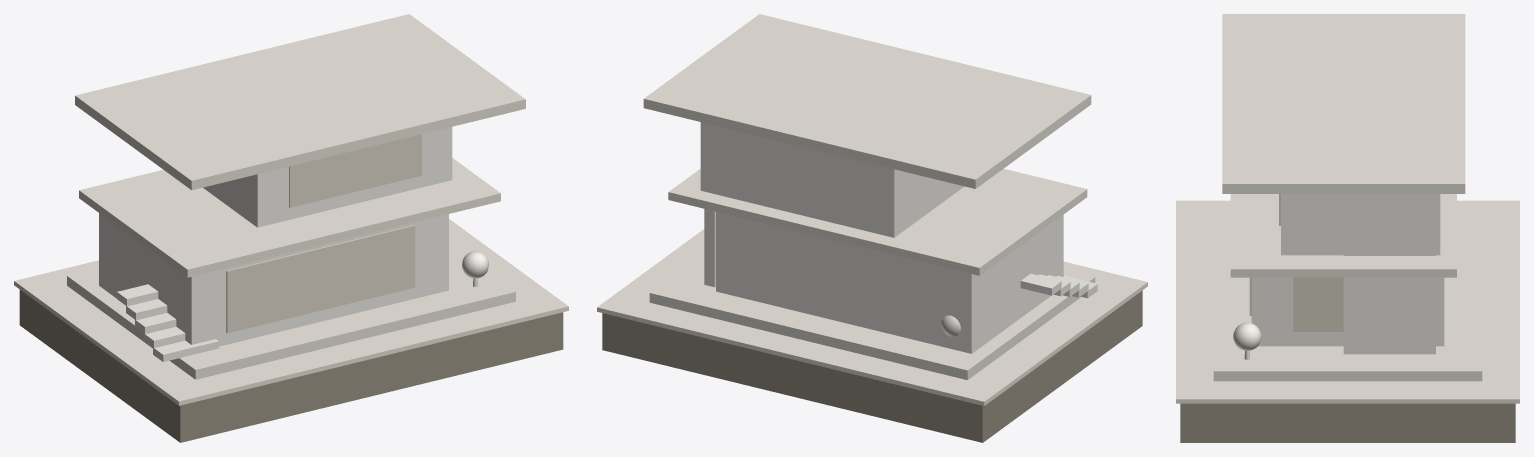
Rendered from architecture.glb.
3 renders of one model, left to right at view 1: azimuth 30°, elevation 25°; view 2: azimuth 150°, elevation 25°; view 3: azimuth 270°, elevation 25°, orthographic. The views are drawn at different scales.
Parts seen in each view (by area): view 1: laje_cobertura, plinto, laje_intermediaria, plinto_topo, terreo, vazio_terreo, terreno, volume_superior, vazio_superior, degrau_0, degrau_4, degrau_1 (+3 smaller); view 2: laje_cobertura, terreo, plinto, plinto_topo, volume_superior, laje_intermediaria, terreno, lamina_parede, degrau_4; view 3: laje_cobertura, plinto_topo, terreno, plinto, volume_superior, laje_intermediaria, lamina_parede, terreo, vazio_lateral, TR_maquete.
Part boxes in pixels (x1=…): laje_cobertura: x1=75, y1=14, x2=525, y2=190; plinto: x1=19, y1=290, x2=563, y2=442; laje_intermediaria: x1=79, y1=158, x2=500, y2=277; plinto_topo: x1=14, y1=219, x2=568, y2=405; terreo: x1=99, y1=213, x2=448, y2=346; vazio_terreo: x1=226, y1=225, x2=415, y2=333; terreno: x1=67, y1=243, x2=515, y2=379; volume_superior: x1=203, y1=127, x2=452, y2=227; vazio_superior: x1=289, y1=134, x2=421, y2=207; degrau_0: x1=153, y1=339, x2=218, y2=361; degrau_4: x1=117, y1=284, x2=158, y2=306; degrau_1: x1=144, y1=326, x2=185, y2=347; laje_cobertura: x1=643, y1=14, x2=1091, y2=188; terreo: x1=716, y1=211, x2=1063, y2=353; plinto: x1=602, y1=290, x2=1142, y2=442; plinto_topo: x1=597, y1=229, x2=1147, y2=405; volume_superior: x1=700, y1=122, x2=964, y2=237; laje_intermediaria: x1=668, y1=168, x2=1087, y2=275; terreno: x1=649, y1=253, x2=1095, y2=380; lamina_parede: x1=704, y1=209, x2=715, y2=287; degrau_4: x1=1020, y1=273, x2=1061, y2=295; laje_cobertura: x1=1222, y1=14, x2=1465, y2=193; plinto_topo: x1=1176, y1=200, x2=1519, y2=403; terreno: x1=1213, y1=208, x2=1482, y2=381; plinto: x1=1180, y1=403, x2=1515, y2=442; volume_superior: x1=1281, y1=194, x2=1440, y2=255; laje_intermediaria: x1=1230, y1=194, x2=1456, y2=277; lamina_parede: x1=1343, y1=255, x2=1435, y2=354; terreo: x1=1251, y1=277, x2=1444, y2=346; vazio_lateral: x1=1293, y1=277, x2=1343, y2=331; TR_maquete: x1=1233, y1=322, x2=1261, y2=350.
Bounding box in the file's own units: 11.2 × 6.58 × 8.2.
